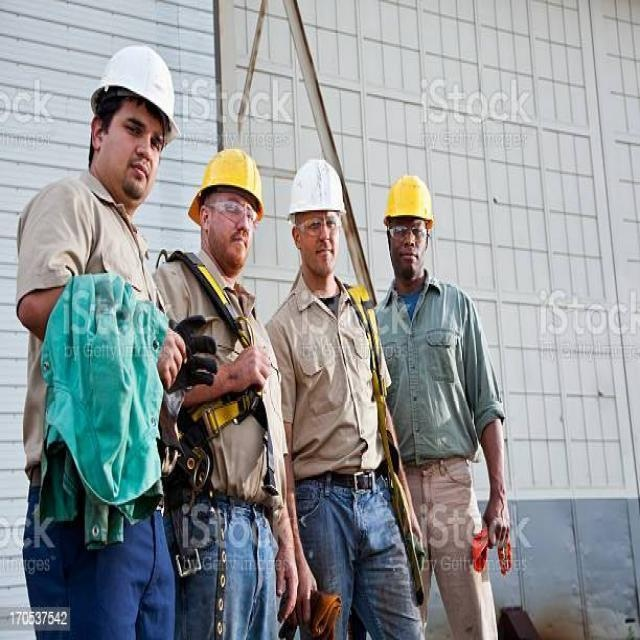Arnes_seguridad: (152, 231, 272, 507), (339, 275, 424, 564)
